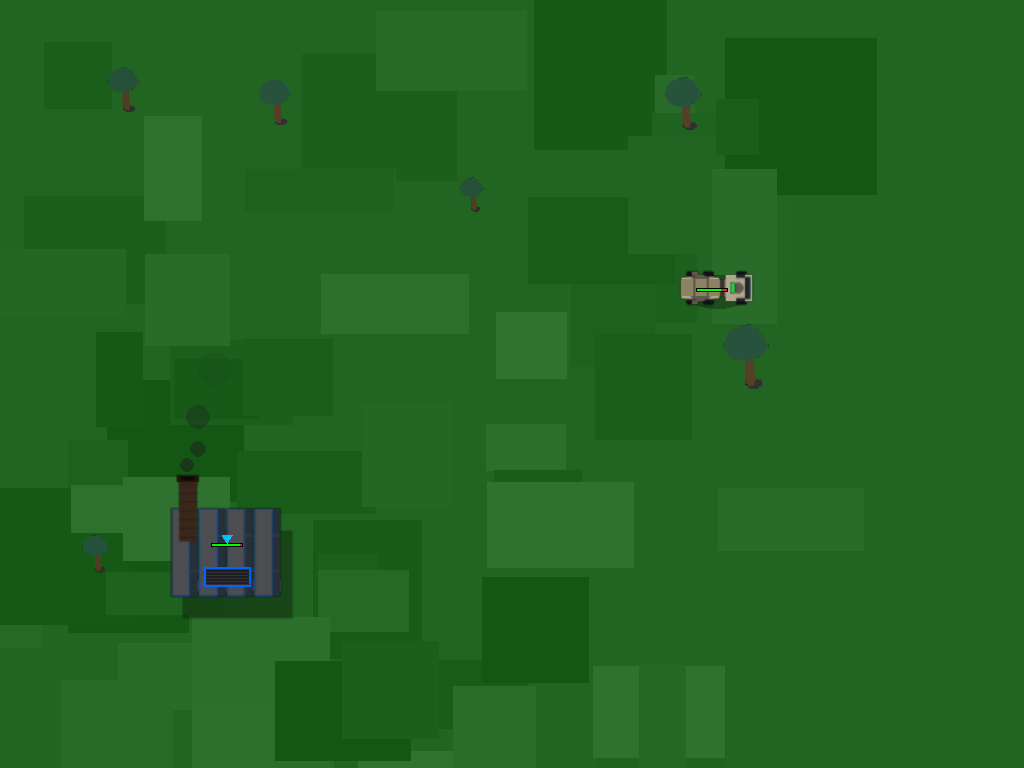FactoryBuilding: (155, 470, 298, 613)
HIMARS: (679, 253, 745, 319)
